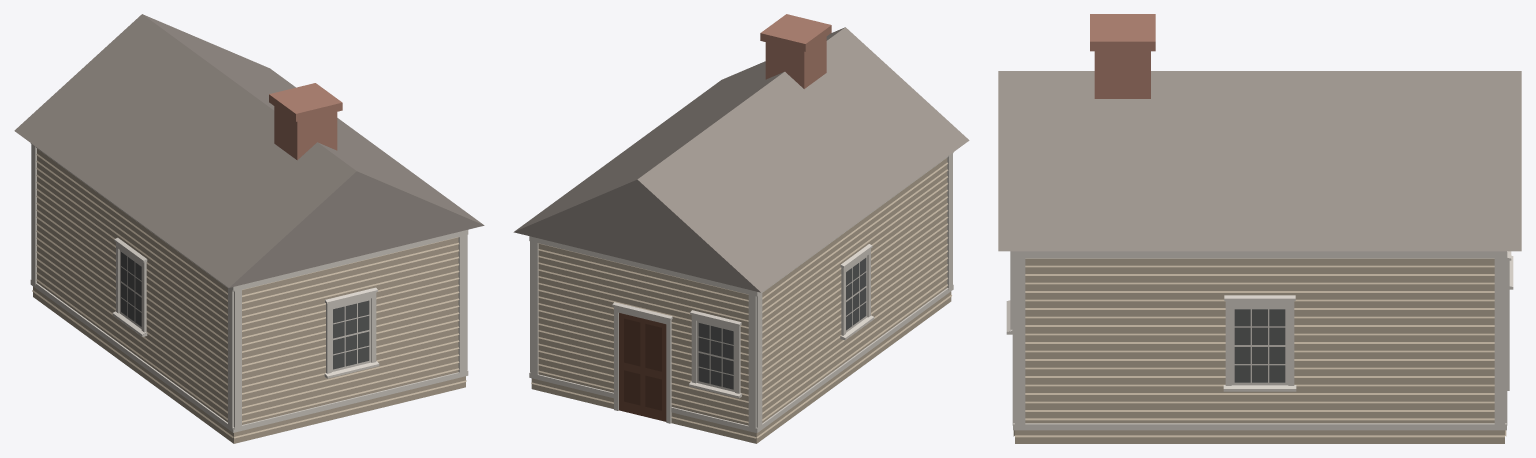
Rendered from physicians_office__inferred_1835.glb.
3 renders of one model, left to right at view 1: azimuth 30°, elevation 25°; view 2: azimuth 150°, elevation 25°; view 3: azimuth 270°, elevation 25°, orthographic. The views are drawn at different scales.
Visible parts, largest first — view 1: physicians_office__inferred_1835; view 2: physicians_office__inferred_1835; view 3: physicians_office__inferred_1835.
Boxes of the visible parts, left/top/right/bottom form: physicians_office__inferred_1835: left=14, top=14, right=484, bottom=443; physicians_office__inferred_1835: left=513, top=14, right=969, bottom=443; physicians_office__inferred_1835: left=998, top=14, right=1521, bottom=443.
Bounding box in the file's own units: 5.38 × 5.72 × 7.82.
